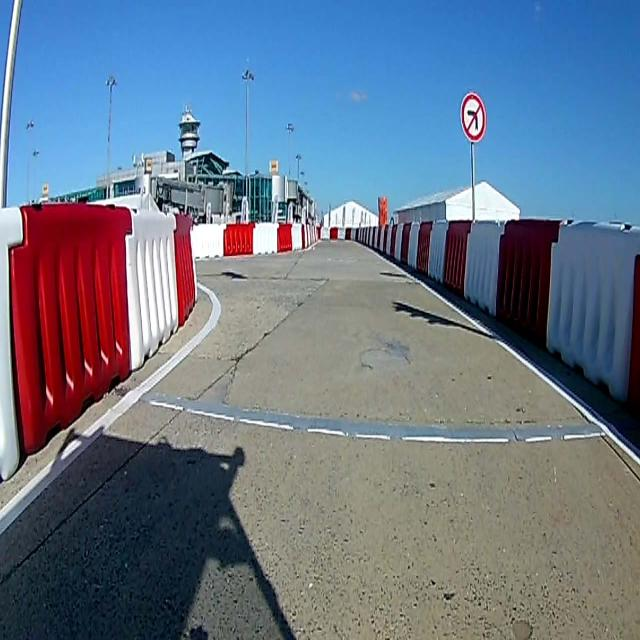soladonulmez: (460, 92, 487, 140)
